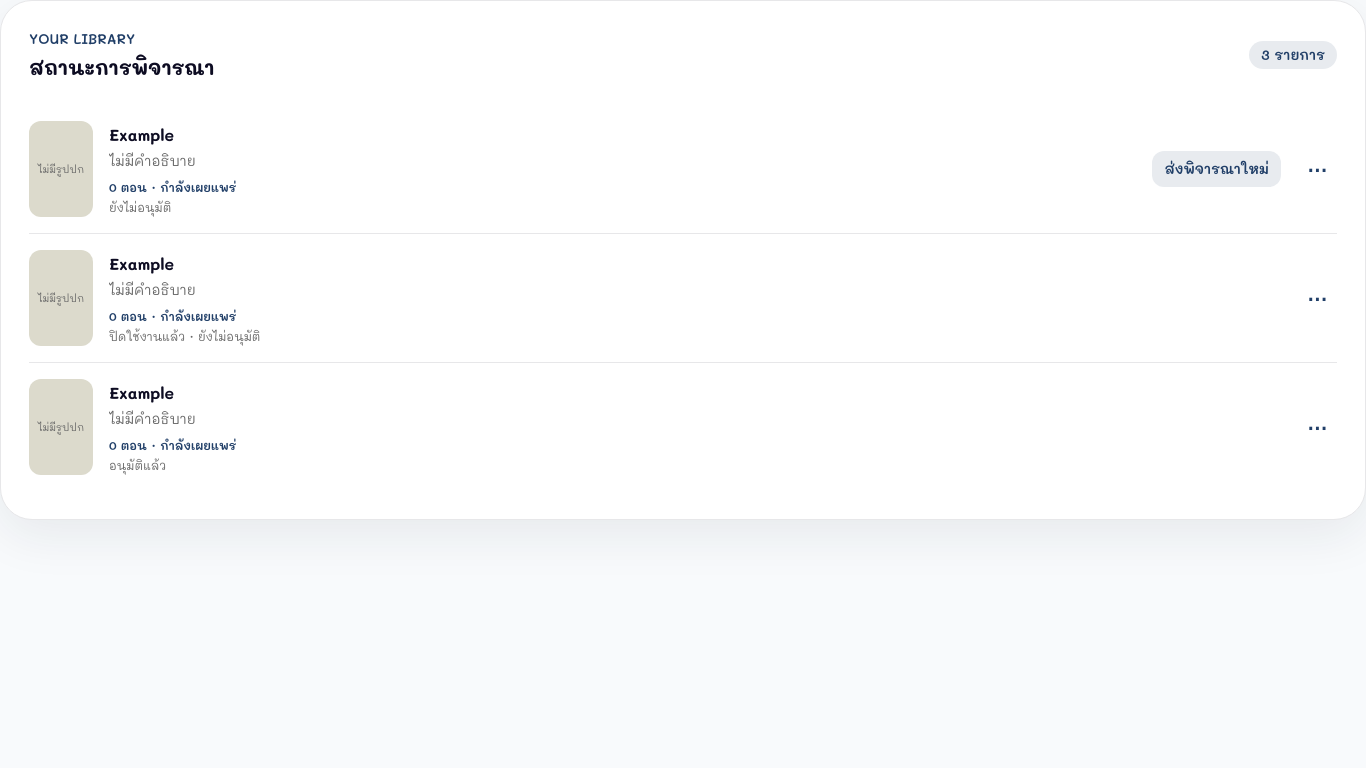
resubmission is available only for active rejected comics and disables while saving
Click the button "ส่งพิจารณาใหม่". click: (1217, 169)
box: [1152,151,1281,187]
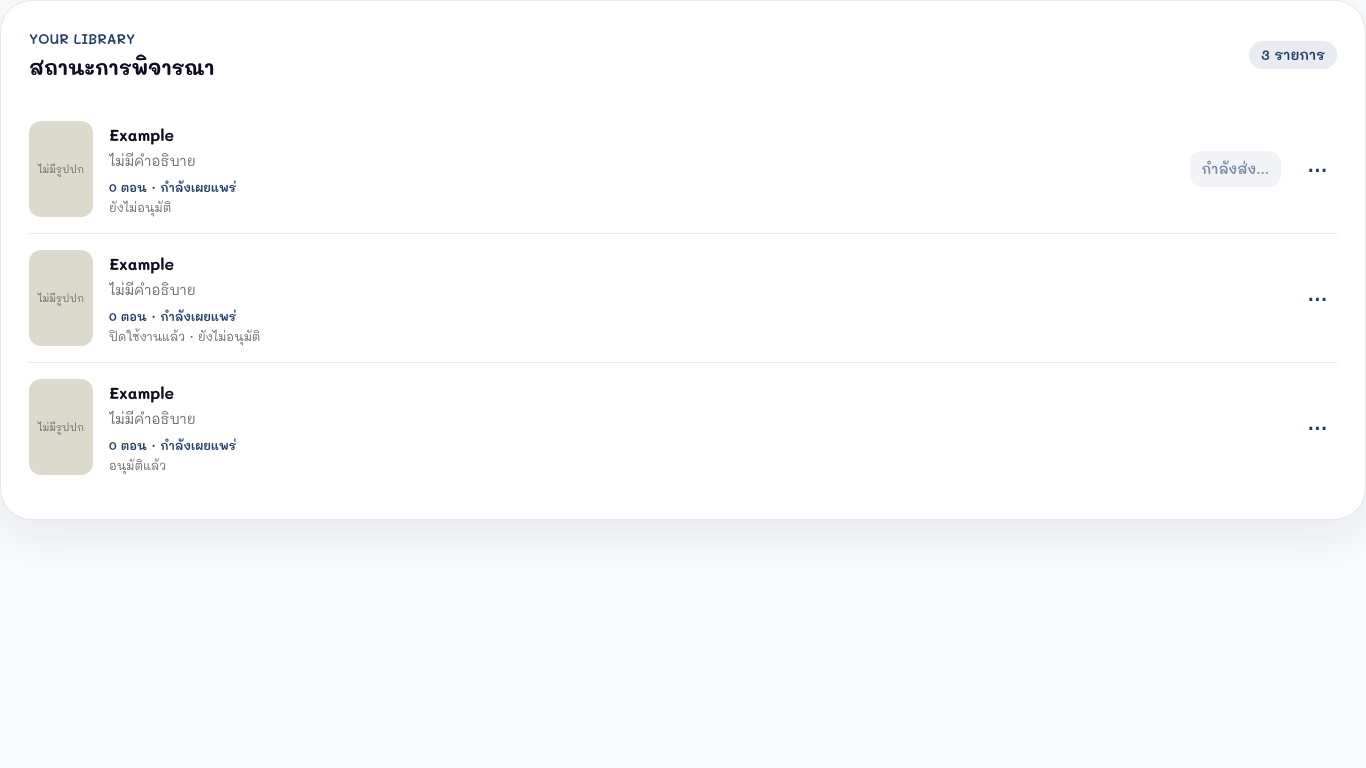
Check: the button "กำลังส่ง..." is disabled, box [1190,151,1281,187]
